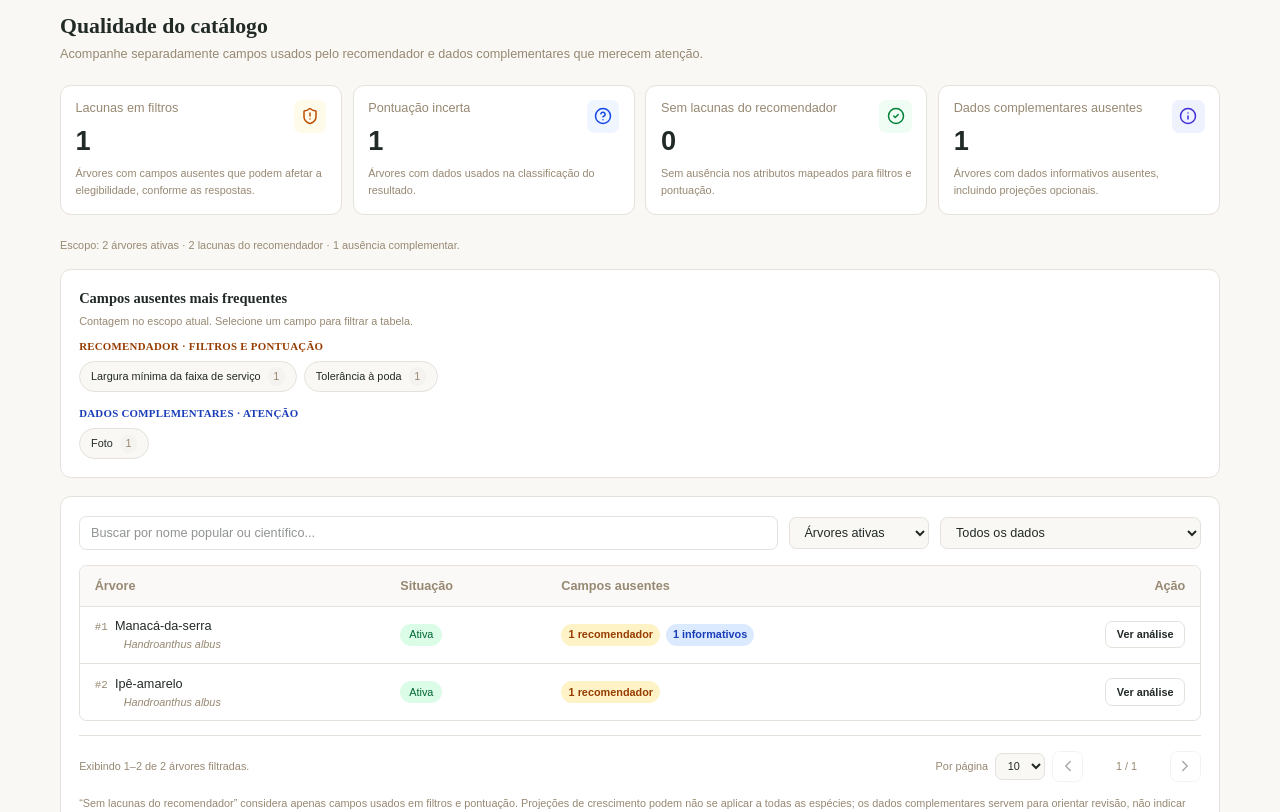
Test: AdminTreeQualityPage › filters complementary gaps without treating them as recommendation gaps
The image size is (1280, 812).
Select "Com dados complementares ausentes" in the dropdown named "Filtrar por tipo de dado ausente": (1070, 533) [940,517,1201,549]
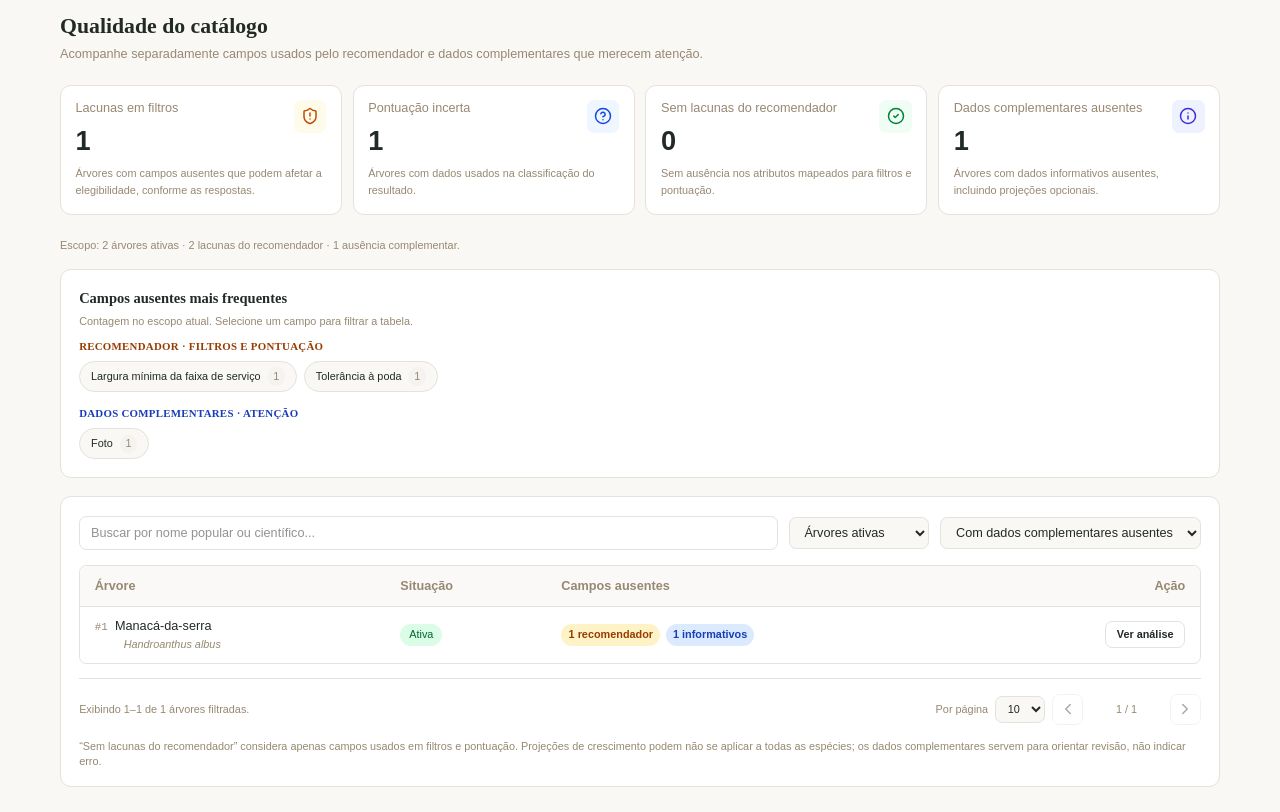
Expected: the text "Manacá-da-serra" is shown, [115,620,211,634]
Expected: the text "Ipê-amarelo" is gone
